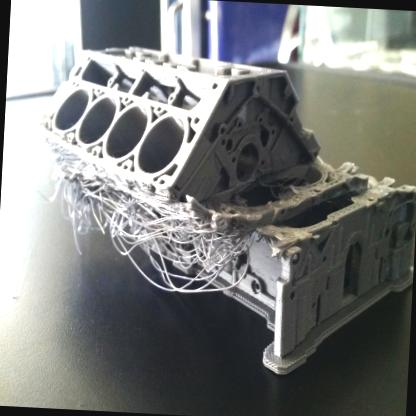fail: (51, 192, 245, 295)
